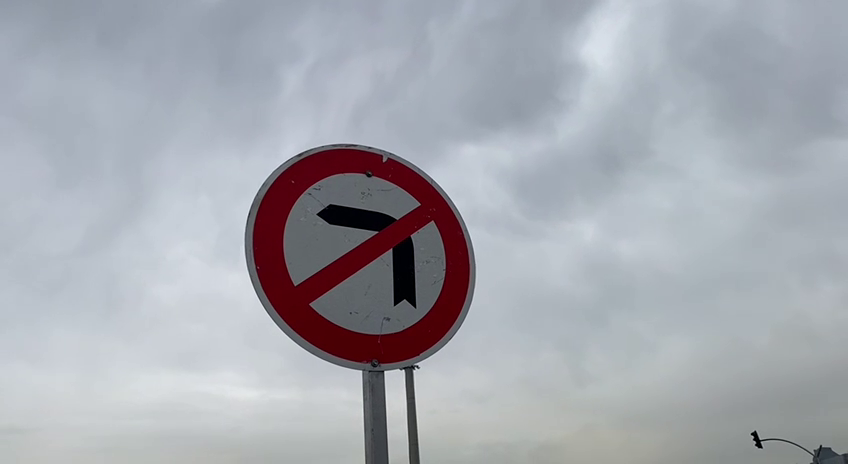noTurnLeft: (235, 134, 490, 382)
